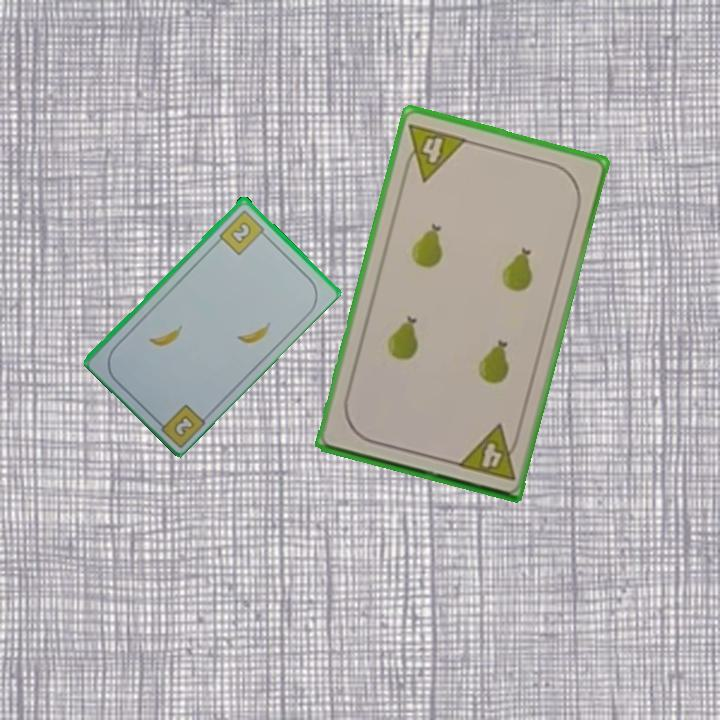2b: (215, 206, 270, 257), (170, 411, 198, 439)
4p: (398, 119, 470, 184), (453, 421, 523, 484)
